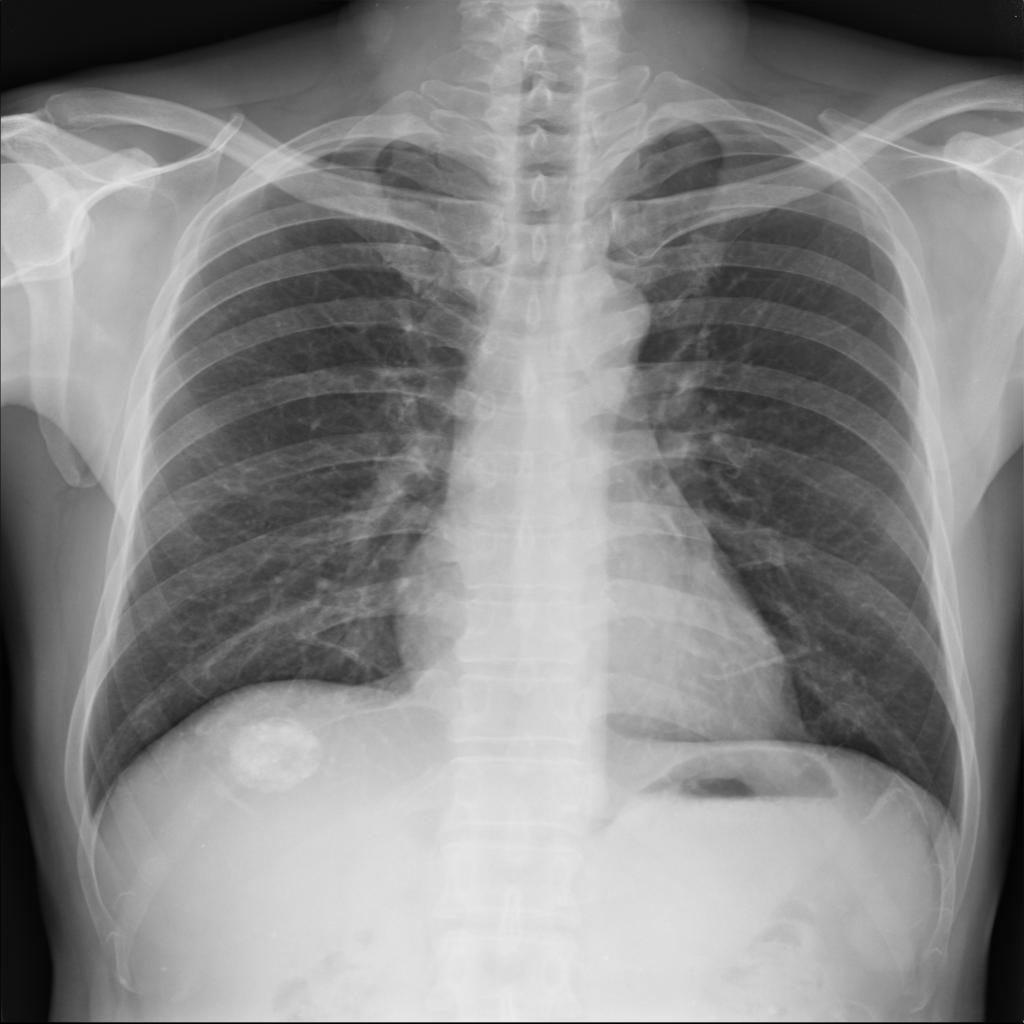Nodule: (225, 720, 327, 793)
